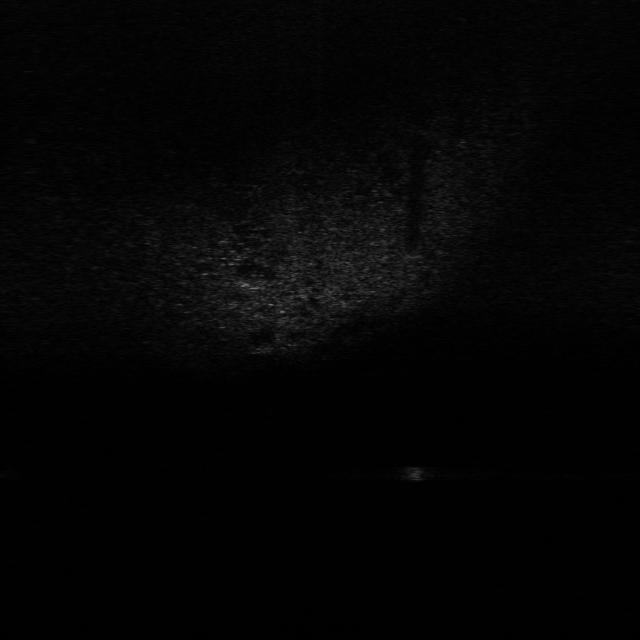cylinder: (398, 461, 433, 483)
